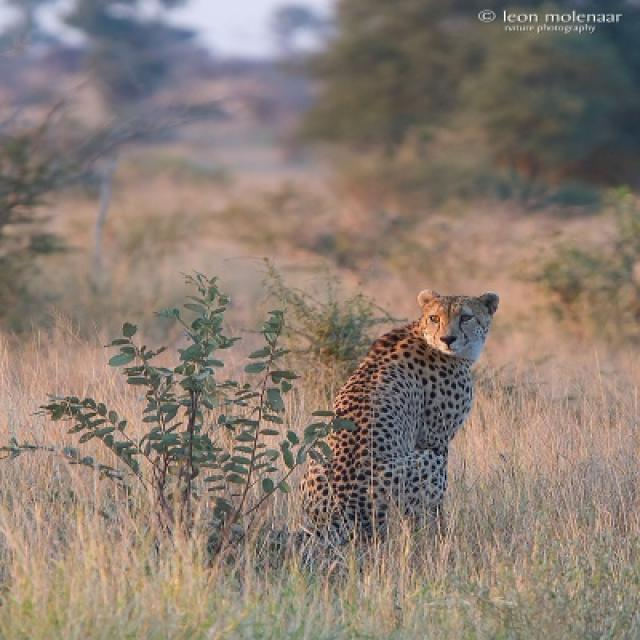Cheetah: (294, 291, 498, 571)
